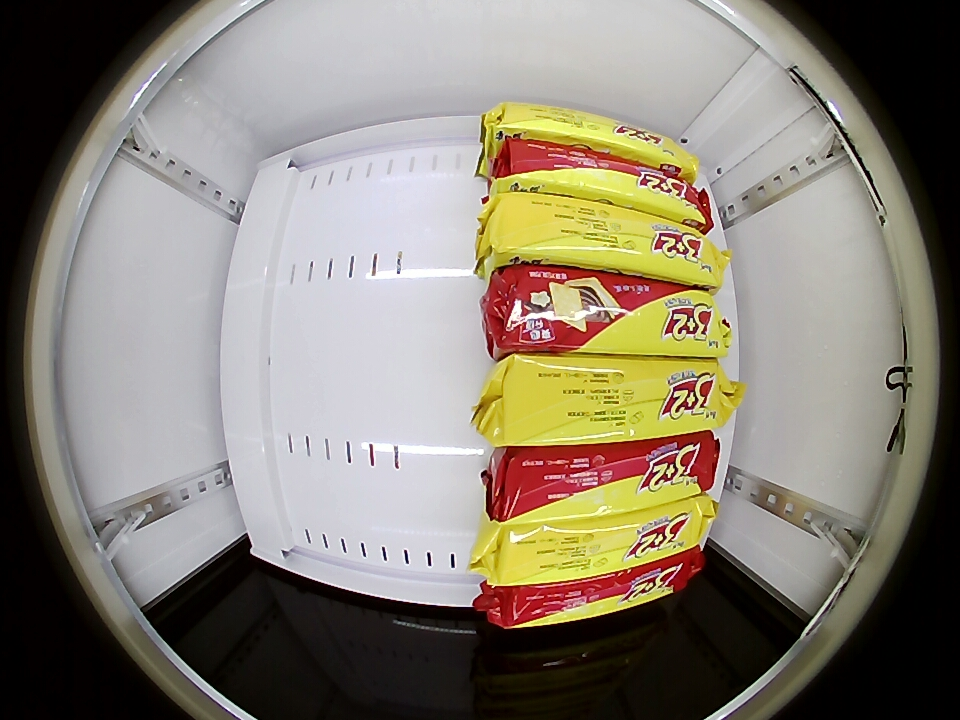3+2-2: (493, 354, 721, 445), (489, 196, 715, 285), (489, 503, 704, 584), (487, 103, 693, 171)
3jia2: (496, 270, 718, 356), (495, 436, 715, 520), (504, 141, 703, 219), (492, 557, 693, 628)
